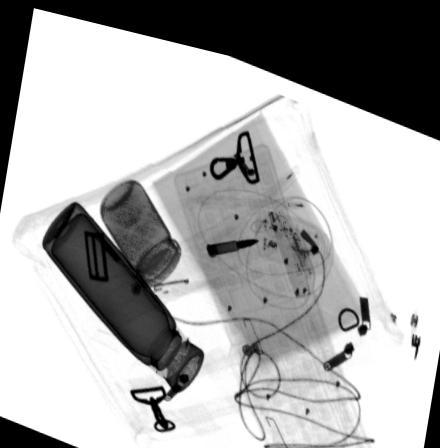Bullet: (204, 223, 259, 246)
